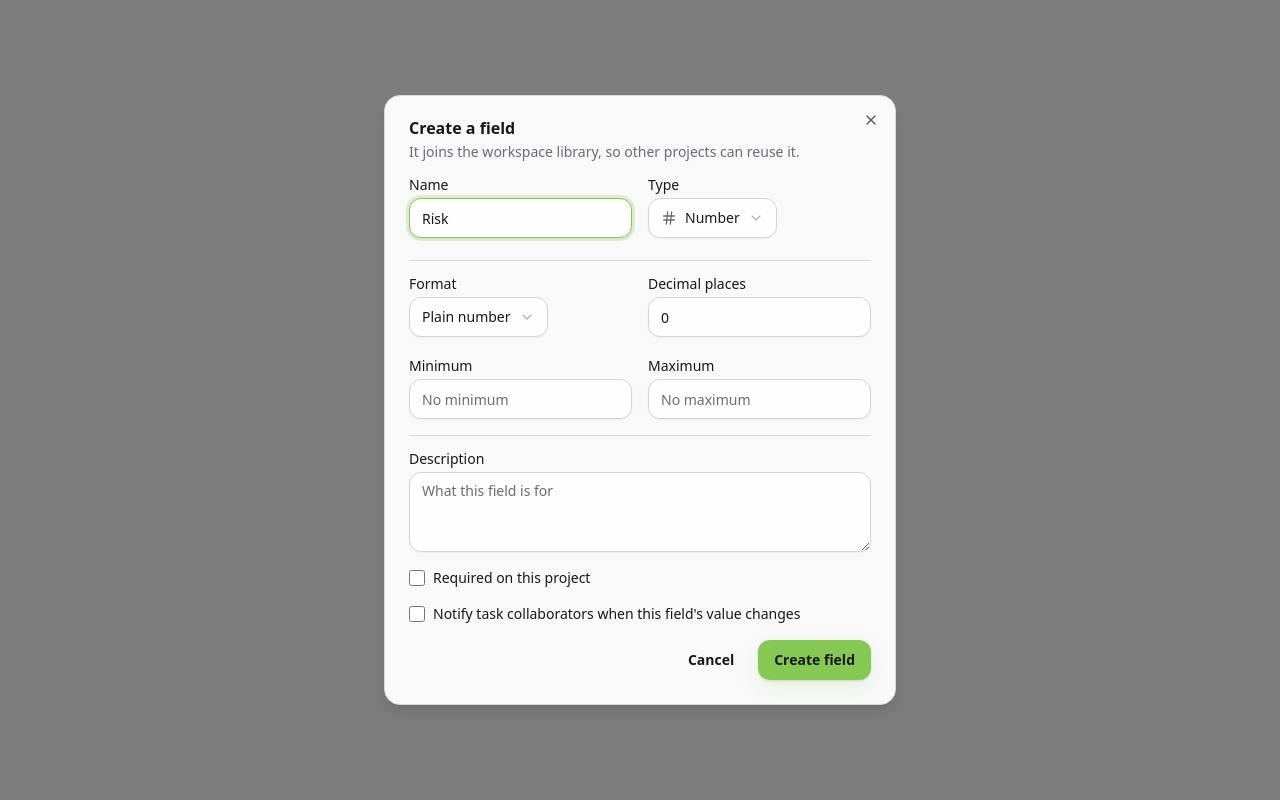
Test case: CreateCustomFieldDialog › reports a number range that cannot contain anything
This screenshot has width=1280, height=800.
Type "10" into the number field labelled "Minimum" at coordinates (520, 399), box [409,379,632,419]
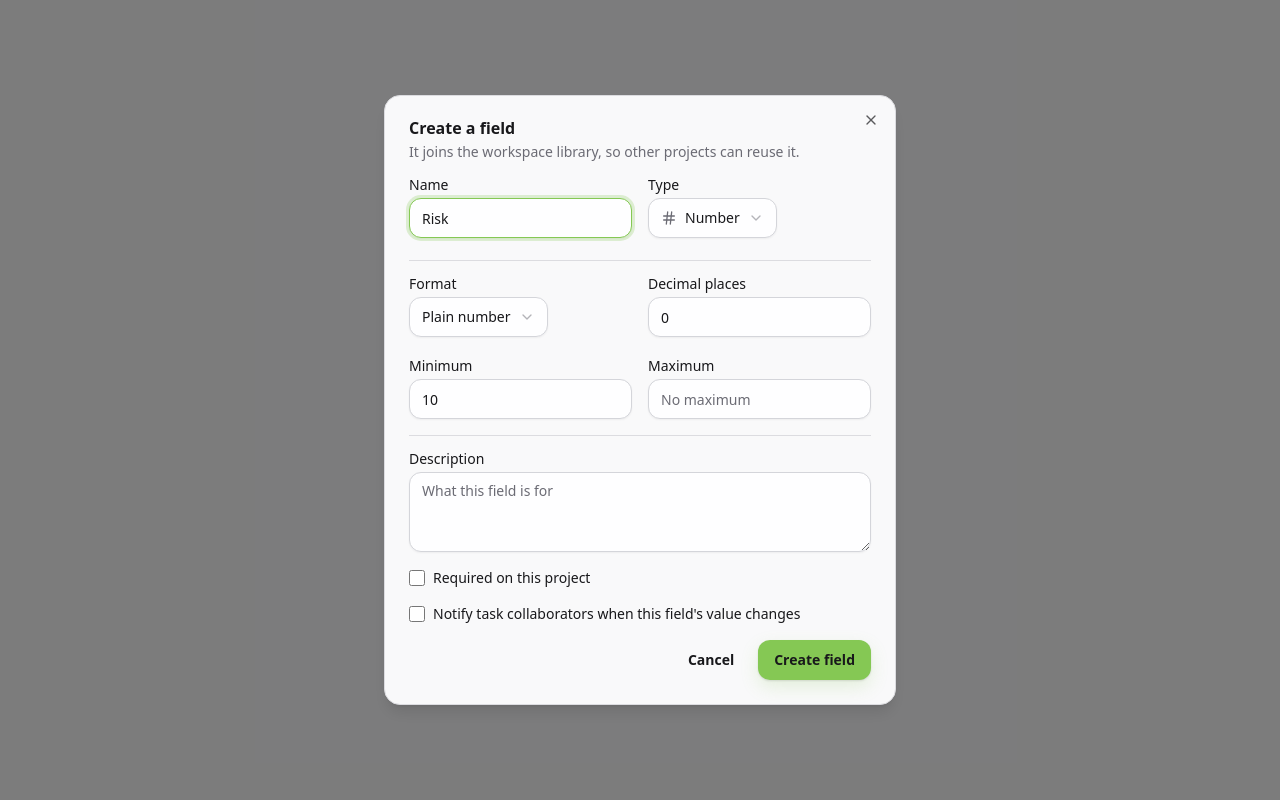
Type "1" into the number field labelled "Maximum" at coordinates (760, 399), box [648,379,871,419]
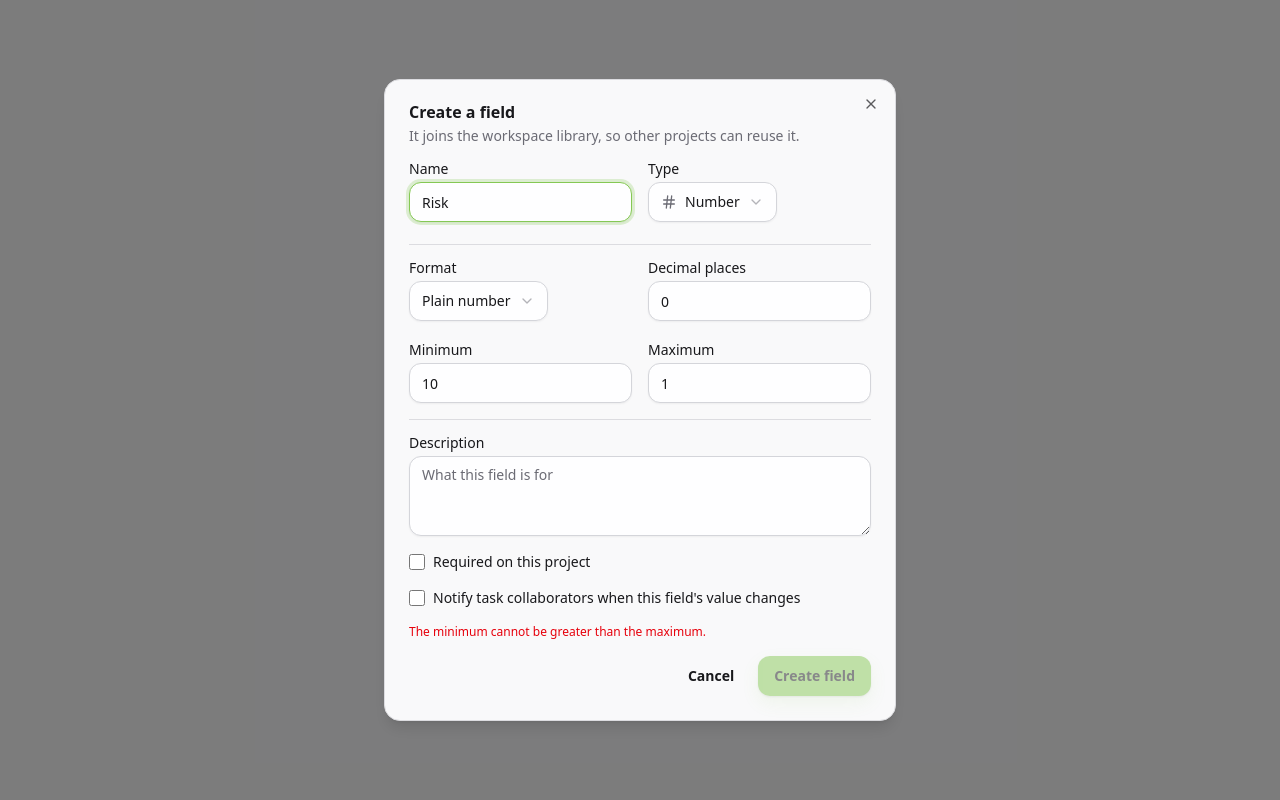
Now the list item "The minimum cannot be greater than the maximum." is shown, box [409,623,706,640]
Now the button "Create field" is disabled, box [758,656,871,696]
